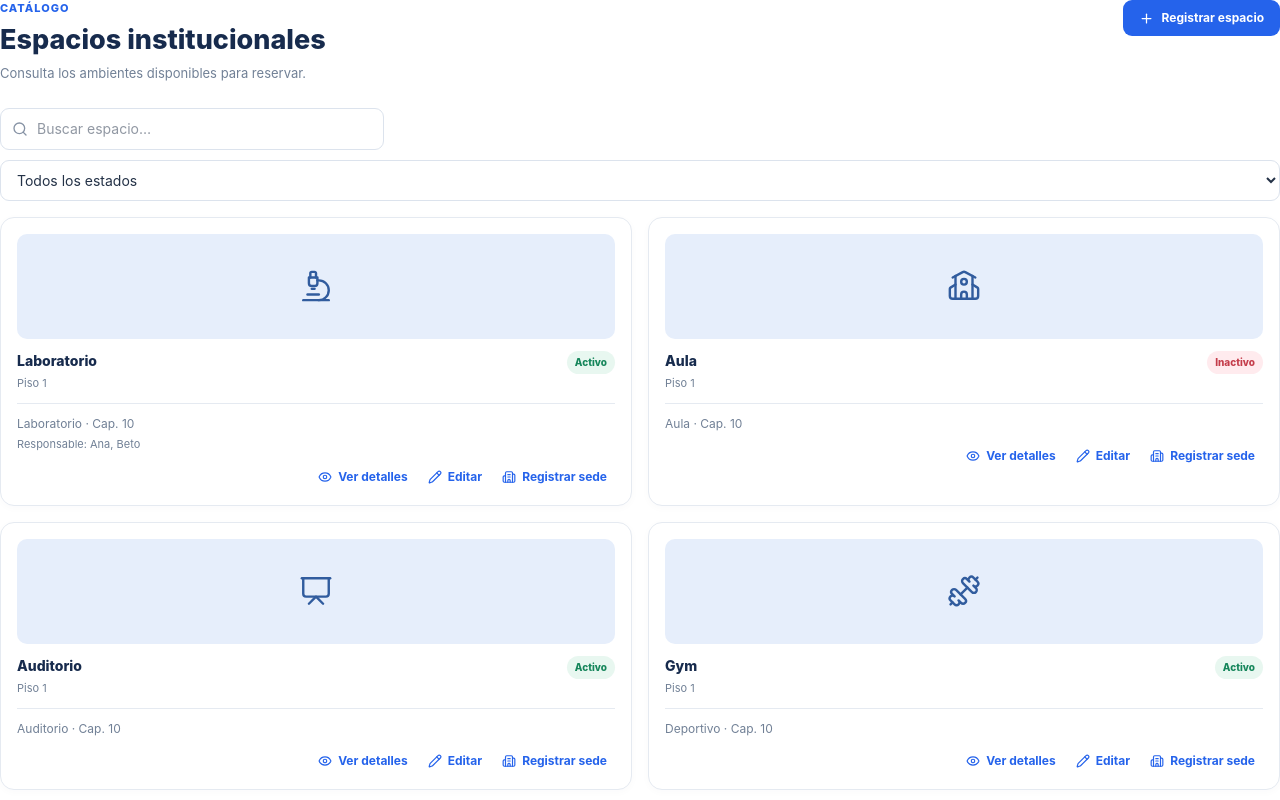
Scenario: SpacesPage · crear y editar › muestra el error al guardar
Expected: the heading "Laboratorio" is shown, 17,351 -> 97,371
Click the button "Registrar espacio": {"x": 1201, "y": 18} 1122,0 -> 1279,36
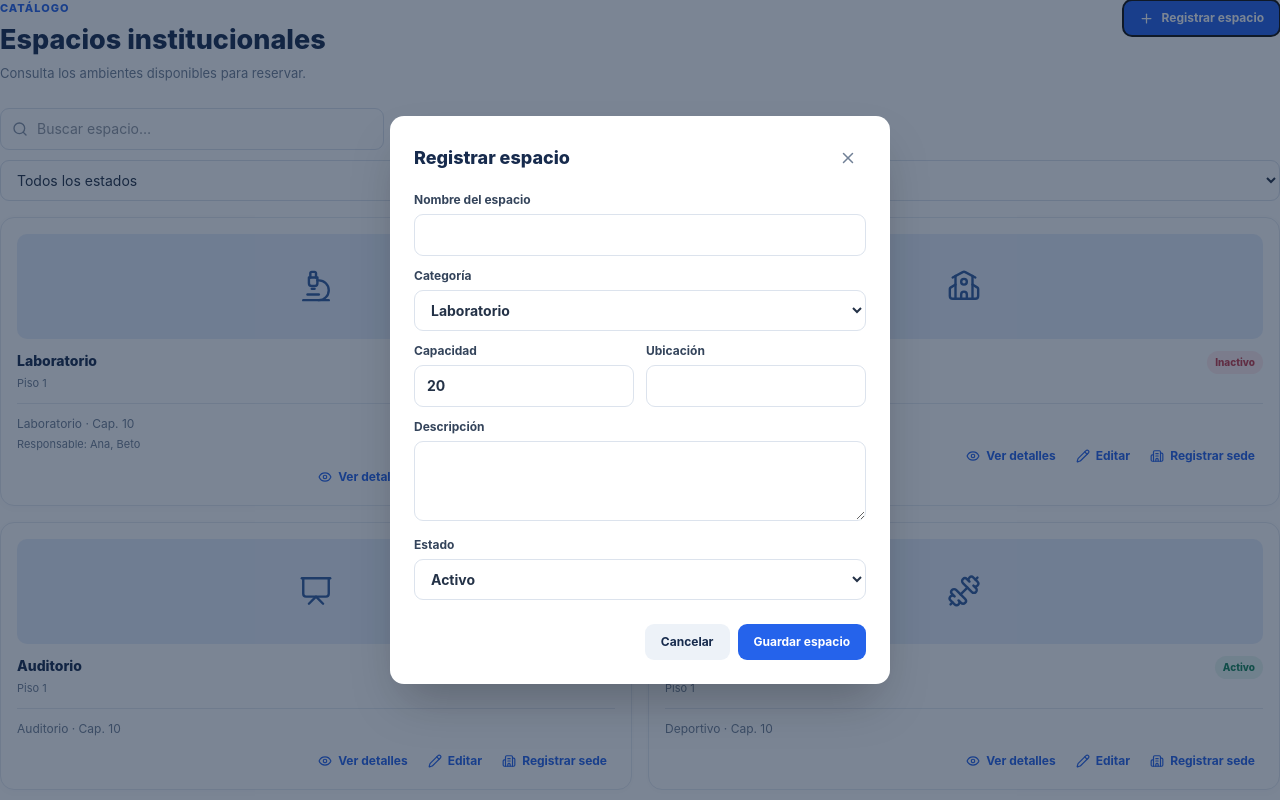
In the field labelled "Nombre del espacio": {"x": 640, "y": 235} 414,214 -> 866,256, type "X"
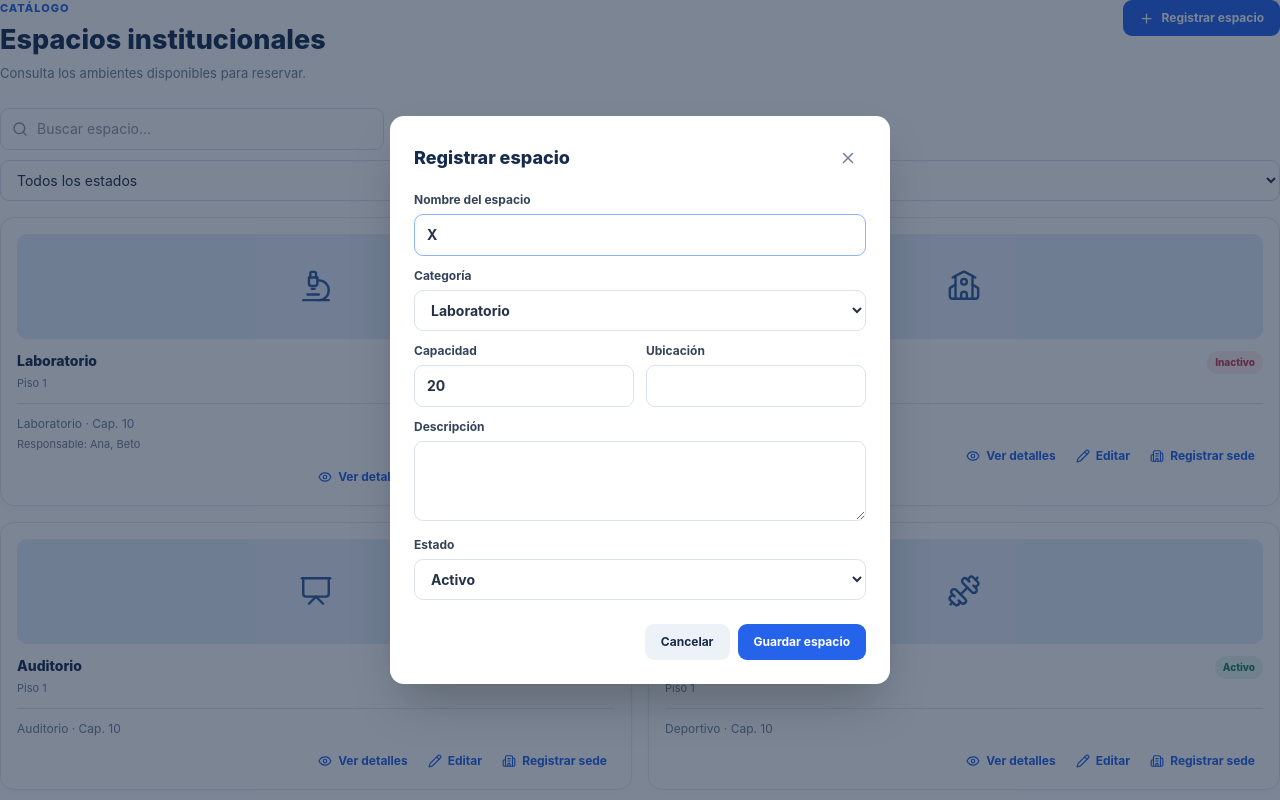
In the field labelled "Ubicación": {"x": 756, "y": 386} 646,365 -> 866,407, type "Y"
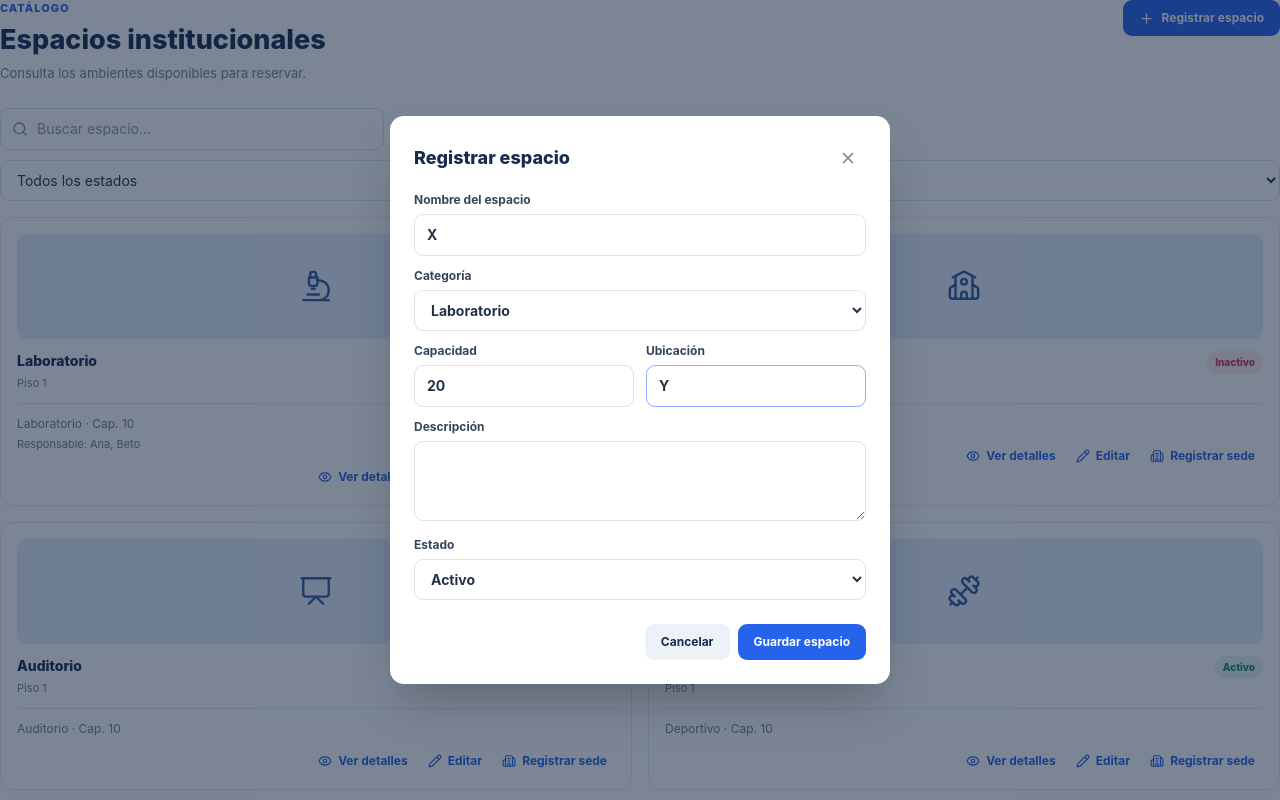
Click the button "Guardar espacio": {"x": 802, "y": 642} 738,624 -> 866,660
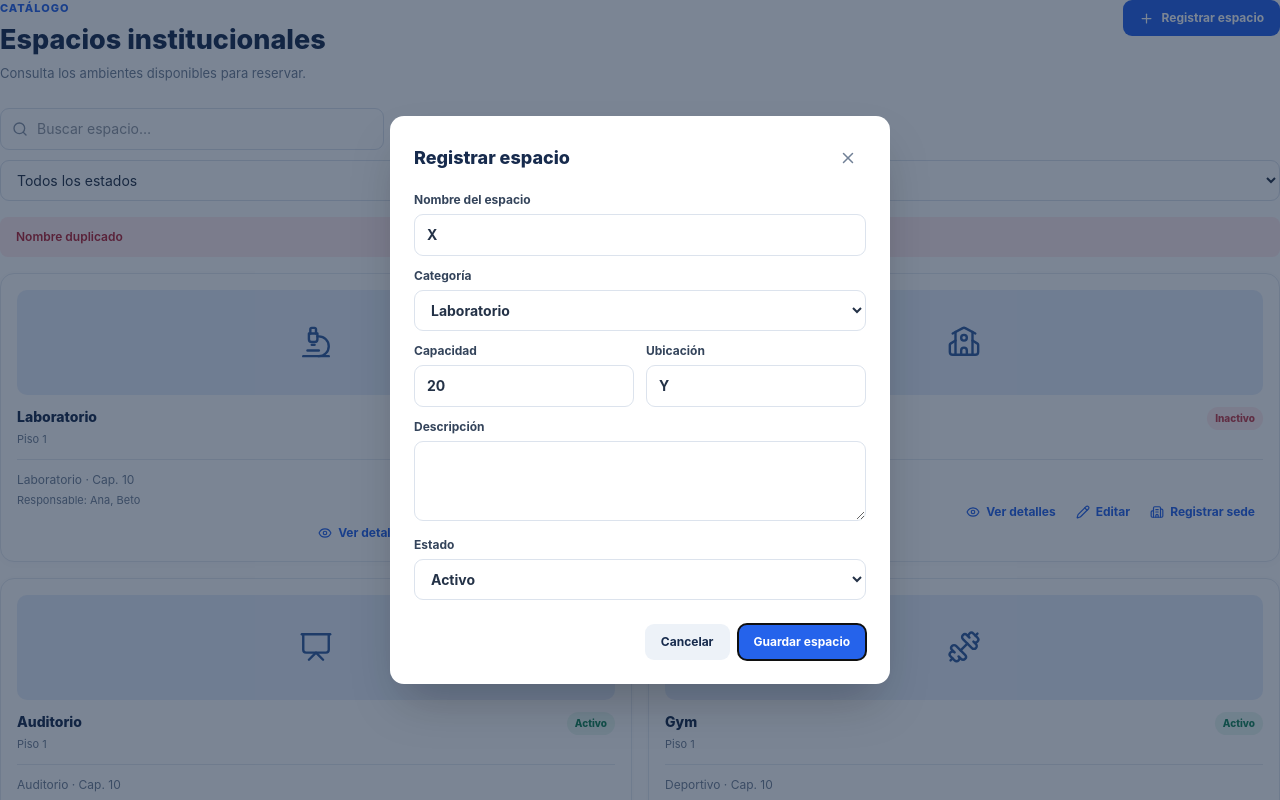
Result: the message reads "Nombre duplicado" at 16,229 -> 123,244
